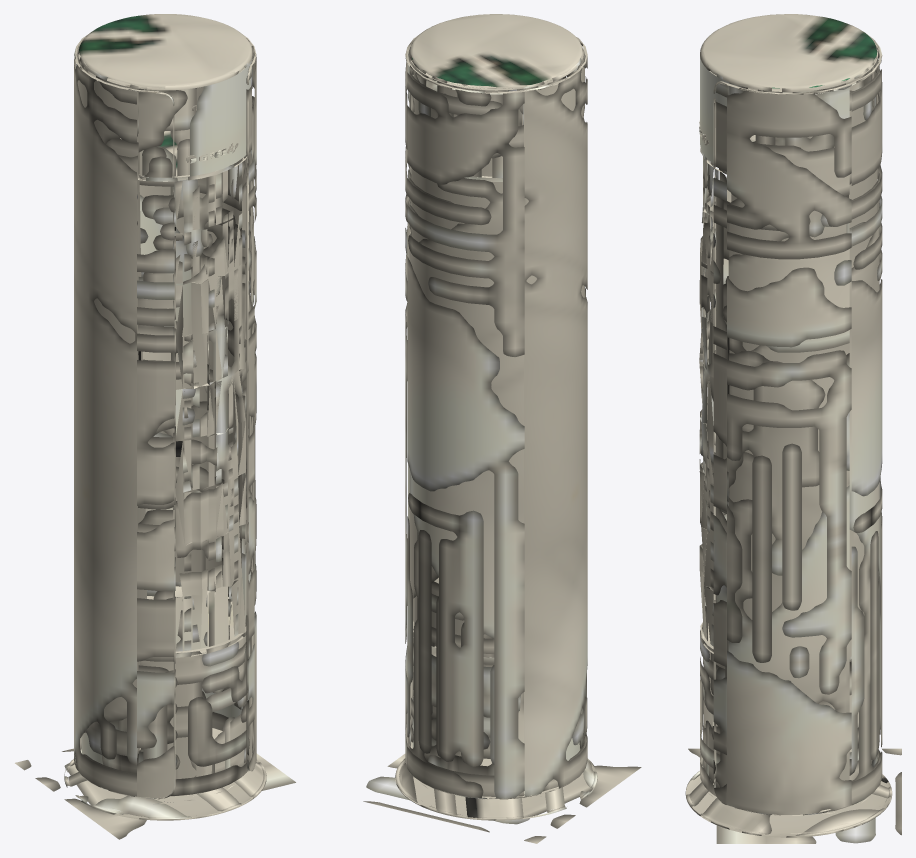
File: raw_model.obj
3 views of the same model, side by side, from view 1: azimuth 30°, elevation 25°; view 2: azimuth 150°, elevation 25°; view 3: azimuth 270°, elevation 25° (orthographic). The views are drawn at different scales.
Parts seen in each view (by area): view 1: solid_001, solid_007, solid_006, solid_003, solid_005, solid_008, solid_004, solid_002, shadow; view 2: solid_001, solid_003, solid_007, solid_004, shadow, solid_002, solid_008; view 3: solid_001, solid_007, solid_003, solid_004, solid_006, shadow, solid_002, solid_005, solid_008.
Part boxes in pixels (<box>): solid_001: <box>74,38,256,798</box>; solid_007: <box>78,53,252,796</box>; solid_006: <box>175,165,245,650</box>; solid_003: <box>78,14,252,90</box>; solid_005: <box>175,161,242,651</box>; solid_008: <box>84,67,247,777</box>; solid_004: <box>64,759,266,820</box>; solid_002: <box>74,33,256,799</box>; shadow: <box>15,748,295,839</box>; solid_001: <box>405,44,587,798</box>; solid_003: <box>409,14,583,89</box>; solid_007: <box>409,45,583,794</box>; solid_004: <box>395,758,597,820</box>; shadow: <box>363,754,641,843</box>; solid_002: <box>405,34,586,799</box>; solid_008: <box>412,67,571,758</box>; solid_001: <box>705,40,882,814</box>; solid_007: <box>700,47,877,796</box>; solid_003: <box>700,14,877,91</box>; solid_004: <box>685,771,892,837</box>; solid_006: <box>699,156,713,643</box>; shadow: <box>688,748,901,843</box>; solid_002: <box>699,31,882,815</box>; solid_005: <box>703,157,718,646</box>; solid_008: <box>703,66,874,787</box>.
Bounding box in the file's own units: 0.509 × 1.86 × 0.509.
